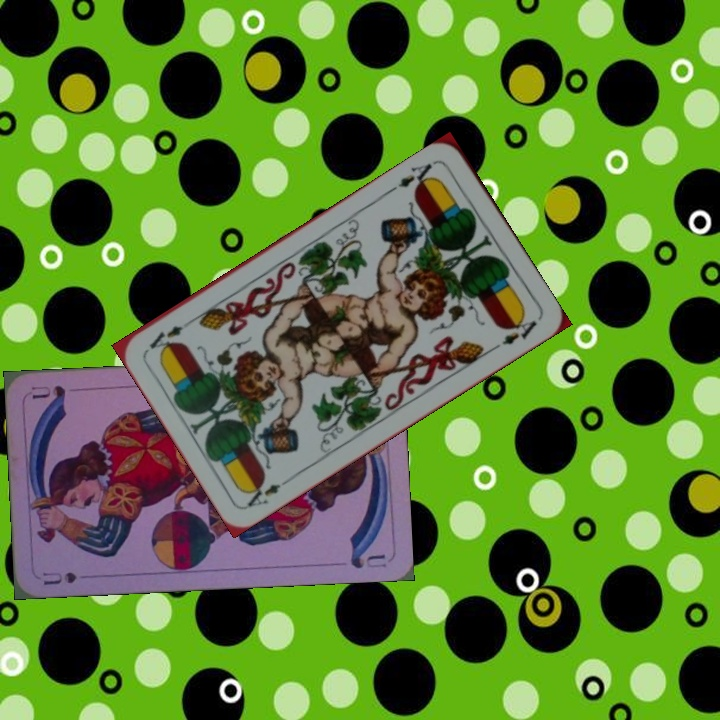EA: (241, 472, 295, 510), (394, 159, 438, 194)
SU: (39, 568, 79, 588)
